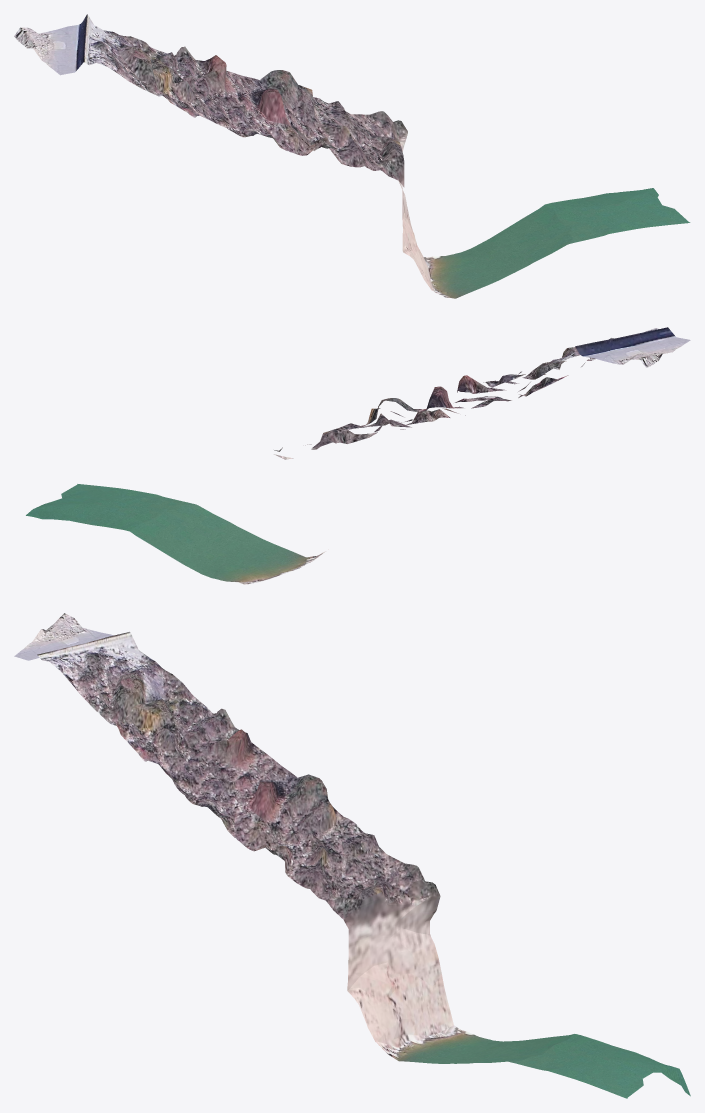
Rendered from Tile_+005_+005_L19_00030.glb.
3 views of the same model, one above another, from view 1: azimuth 30°, elevation 25°; view 2: azimuth 150°, elevation 25°; view 3: azimuth 330°, elevation 25° (orthographic). The views are drawn at different scales.
Visible parts, largest first — view 1: rtc; view 2: rtc; view 3: rtc.
Boxes of the visible parts, box(x1,y1,x2,y2) form: rtc: box(14, 14, 690, 298); rtc: box(26, 327, 690, 584); rtc: box(14, 613, 690, 1098).
Size of the model in its own units: 90.38 by 45.25 by 11.19.
1 material, 1 textured.
